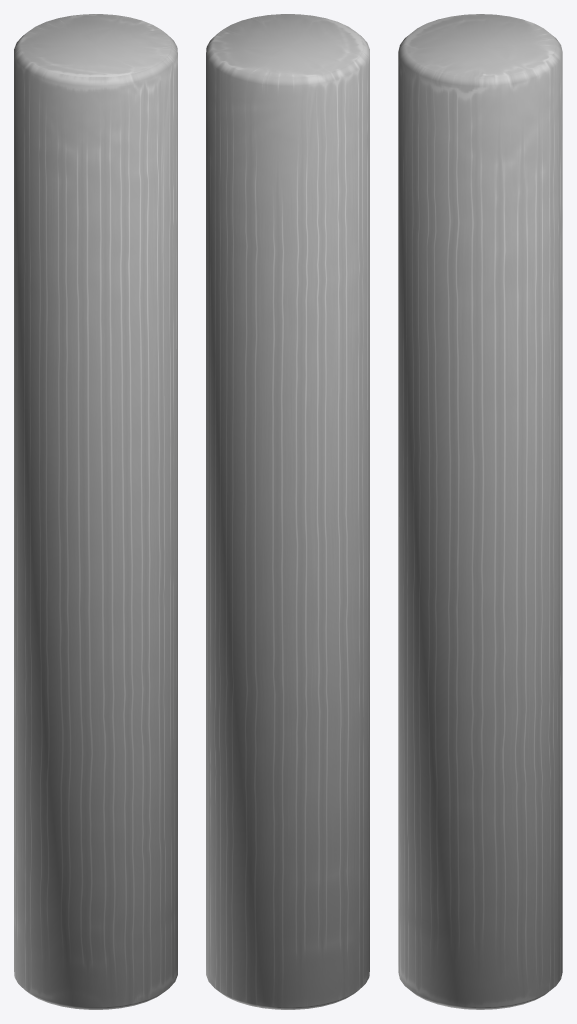
The model's file is ColonBig.fbx.
The picture shows the model from 3 angles, left to right: view 1: azimuth 30°, elevation 25°; view 2: azimuth 150°, elevation 25°; view 3: azimuth 270°, elevation 25°; orthographic projection.
Parts seen in each view (by area): view 1: CylinderBig; view 2: CylinderBig; view 3: CylinderBig.
Part boxes in pixels (left/top/right/bottom): CylinderBig: left=14, top=14, right=177, bottom=1009; CylinderBig: left=206, top=14, right=369, bottom=1009; CylinderBig: left=398, top=14, right=562, bottom=1009.
Size of the model in its own units: 200 by 1252 by 200.
